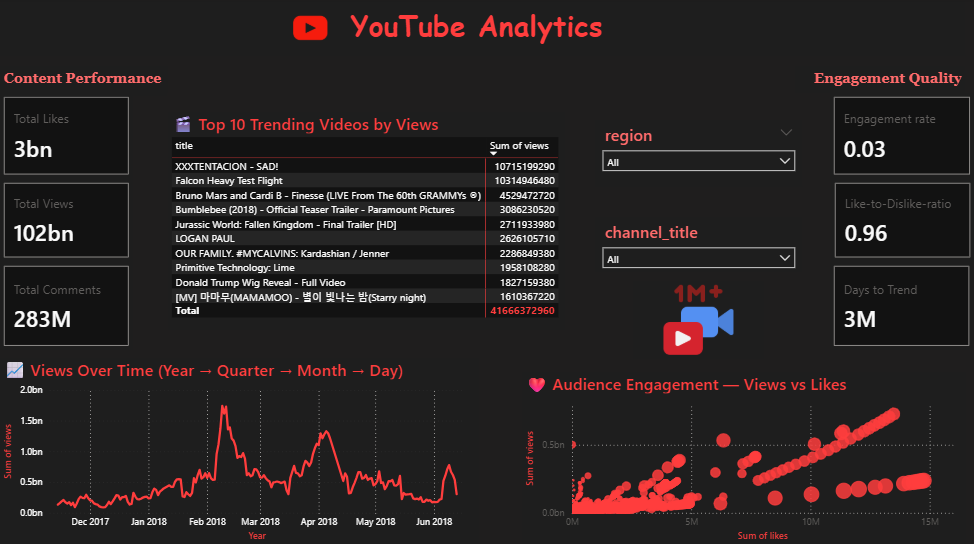

The page's visual inventory and layout, read from the dashboard file:
{"tool":"powerbi","page":{"name":"Video Performance","canvas":[1280,720],"ordinal":0},"visuals":[{"type":"cardVisual","fields":{"Data":["final_analytics.views"]},"box":[0,238.1,174.8,108.7],"z":0},{"type":"cardVisual","fields":{"Data":["final_analytics.likes"]},"box":[0,125.2,174.8,112.9],"z":1000},{"type":"cardVisual","fields":{"Data":["final_analytics.comment_count"]},"box":[0,346.8,174.8,115.6],"z":2000},{"type":"cardVisual","fields":{"Data":["final_analytics.Engagement_rate"]},"box":[1090.1,125.2,189.9,112.9],"z":3000},{"type":"lineChart","title":"📈 Views Over Time (Year → Quarter → Month → Day)","fields":{"Category":["final_analytics.trending_date.Variation.Date Hierarchy.Year","final_analytics.trending_date.Variation.Date Hierarchy.Quarter","final_analytics.trending_date.Variation.Date Hierarchy.Month","final_analytics.trending_date.Variation.Date Hierarchy.Day"],"Y":["final_analytics.views"]},"box":[0,473.5,629,246.4],"z":4000},{"type":"slicer","fields":{"Values":["final_analytics.region"]},"box":[781.8,159.7,272.5,86.7],"z":5000},{"type":"slicer","fields":{"Values":["final_analytics.channel_title"]},"box":[781.8,287.7,272.5,72.9],"z":6000},{"type":"pivotTable","title":"🎬 Top 10 Trending Videos by Views","fields":{"Rows":["final_analytics.title"],"Values":["final_analytics.views"]},"box":[220.2,150,521.6,286.3],"z":7000},{"type":"actionButton","box":[0,0,100,40],"z":8000},{"type":"scatterChart","title":"❤️ Audience Engagement — Views vs Likes","fields":{"X":["final_analytics.likes"],"Y":["final_analytics.views"],"Size":["final_analytics.comment_count"],"Category":["final_analytics.likes"]},"box":[685.3,492,584,228],"z":9000},{"type":"textbox","box":[0,4.1,1269,71.6],"z":10000},{"type":"cardVisual","fields":{"Data":["final_analytics.Like_Dislike_ratio"]},"box":[1091.4,238.1,188.6,108.7],"z":11000},{"type":"cardVisual","fields":{"Data":["final_analytics.Days to Trend"]},"box":[1090.1,346.8,188.6,115.6],"z":12000},{"type":"textbox","box":[0,89.5,220.2,39.9],"z":13000},{"type":"textbox","box":[1044.6,89.5,224.3,35.8],"z":14000},{"type":"image","box":[368.9,12.4,77.1,55.1],"z":14001},{"type":"image","box":[831.3,371.6,172,101.8],"z":14002}]}

Visuals, with their boxes in screenshot pixels (x1, y1, x2, y2), scaled from the page's 1280x720 canvas onto the 974x544 screenshot:
cardVisual - final_analytics.views: bbox=(0, 180, 133, 262)
cardVisual - final_analytics.likes: bbox=(0, 95, 133, 180)
cardVisual - final_analytics.comment_count: bbox=(0, 262, 133, 349)
cardVisual - final_analytics.Engagement_rate: bbox=(829, 95, 973, 180)
"📈 Views Over Time (Year → Quarter → Month → Day)" lineChart: bbox=(0, 358, 479, 543)
slicer - final_analytics.region: bbox=(595, 121, 802, 186)
slicer - final_analytics.channel_title: bbox=(595, 217, 802, 272)
"🎬 Top 10 Trending Videos by Views" pivotTable: bbox=(168, 113, 564, 330)
actionButton: bbox=(0, 0, 76, 30)
"❤️ Audience Engagement — Views vs Likes" scatterChart: bbox=(521, 372, 966, 543)
textbox: bbox=(0, 3, 966, 57)
cardVisual - final_analytics.Like_Dislike_ratio: bbox=(830, 180, 973, 262)
cardVisual - final_analytics.Days to Trend: bbox=(829, 262, 973, 349)
textbox: bbox=(0, 68, 168, 98)
textbox: bbox=(795, 68, 966, 95)
image: bbox=(281, 9, 339, 51)
image: bbox=(633, 281, 763, 358)
